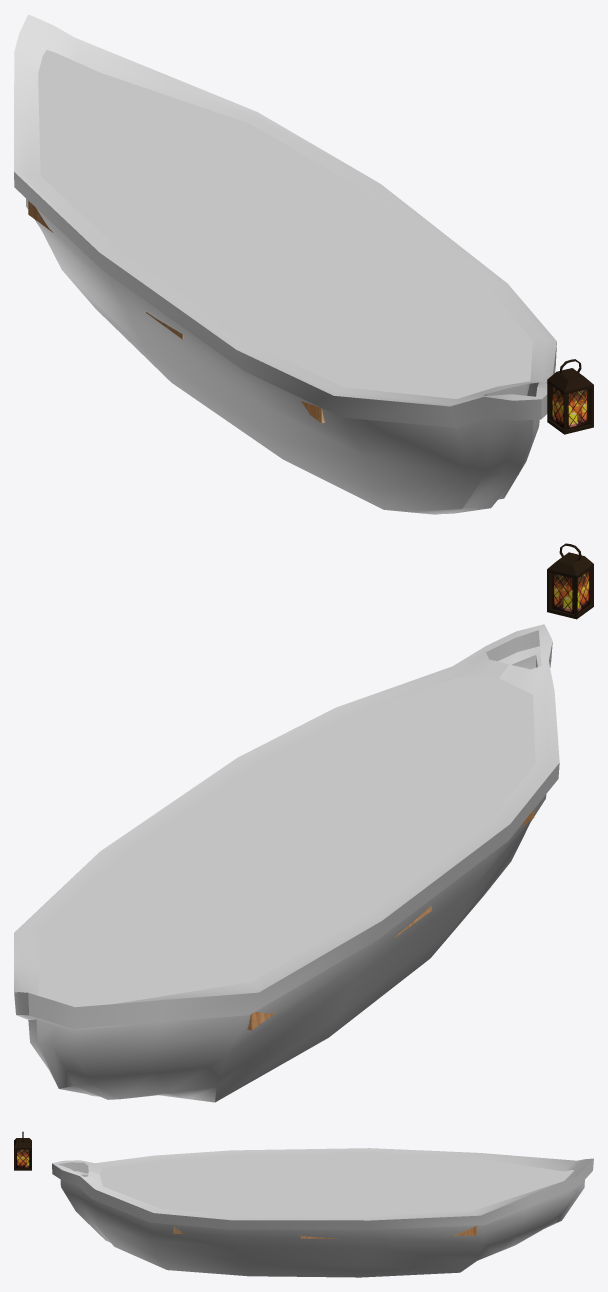
The model's file is bootinside.fbx.
3 views of the same model, one above another, from view 1: azimuth 30°, elevation 25°; view 2: azimuth 150°, elevation 25°; view 3: azimuth 270°, elevation 25° (orthographic). The views are drawn at different scales.
Visible parts, largest first — view 1: boot, Lantern; view 2: boot, Lantern; view 3: boot, Lantern, Seats.
Boxes of the visible parts, x1,y1,x2,y2 form: boot: (14, 14, 556, 514); Lantern: (547, 359, 593, 434); boot: (14, 624, 559, 1102); Lantern: (547, 543, 593, 619); boot: (52, 1148, 593, 1277); Lantern: (14, 1131, 31, 1170); Seats: (173, 1226, 476, 1238).
Size of the model in its own units: 355 by 288 by 1202.
